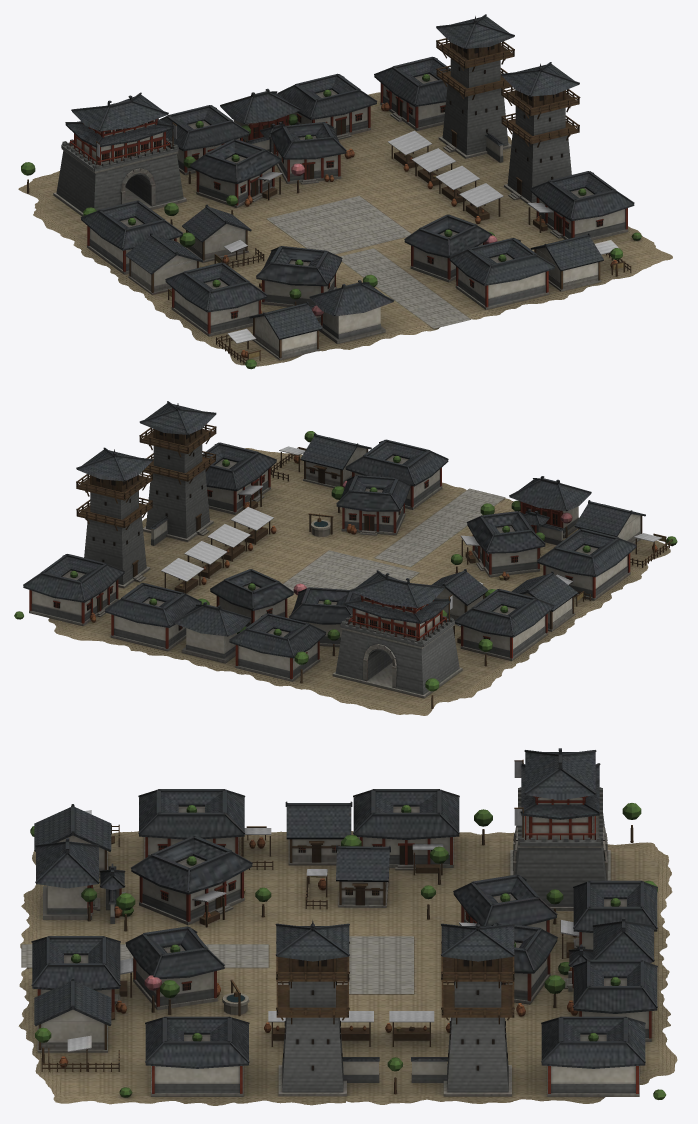
The model's file is classical-town-medium-a-sinic.glb.
The picture shows the model from 3 angles, top to bottom: view 1: azimuth 30°, elevation 25°; view 2: azimuth 150°, elevation 25°; view 3: azimuth 270°, elevation 25°; orthographic projection. The views are drawn at different scales.
Visible parts, largest first — view 1: LOD0; view 2: LOD0; view 3: LOD0.
Boxes of the visible parts, box(x1,y1,x2,y2) form: LOD0: box(18, 14, 672, 369); LOD0: box(14, 401, 677, 715); LOD0: box(18, 748, 677, 1105).
Size of what is drawn, in the model's own units: 6.03 by 1.66 by 6.09.
3 materials, 3 textured.
